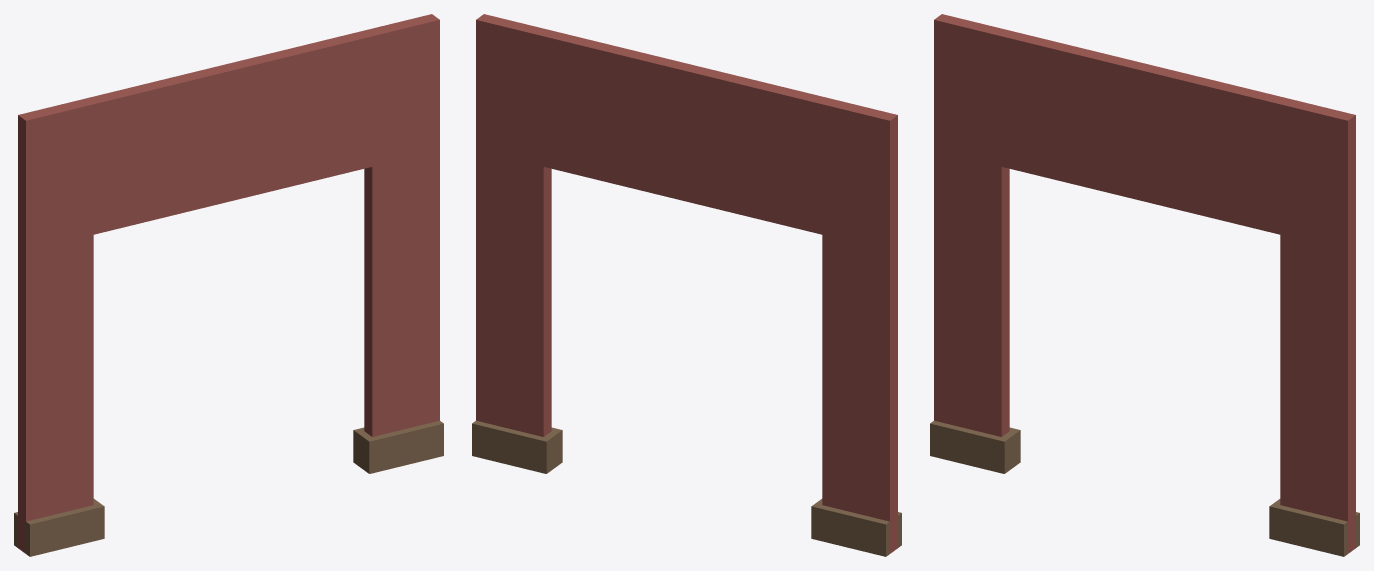
Rendered from Mesh_WallBaseboard_C5.fbx.
3 views of the same model, side by side, from view 1: azimuth 30°, elevation 25°; view 2: azimuth 150°, elevation 25°; view 3: azimuth 330°, elevation 25° (orthographic).
Visible parts, largest first — view 1: Mesh_WallBaseboard_C5; view 2: Mesh_WallBaseboard_C5; view 3: Mesh_WallBaseboard_C5.
Boxes of the visible parts, x1,y1,x2,y2 form: Mesh_WallBaseboard_C5: (14,14,443,556); Mesh_WallBaseboard_C5: (472,14,901,556); Mesh_WallBaseboard_C5: (930,14,1359,556).
Bounding box in the file's own units: 3 × 3 × 0.2.
